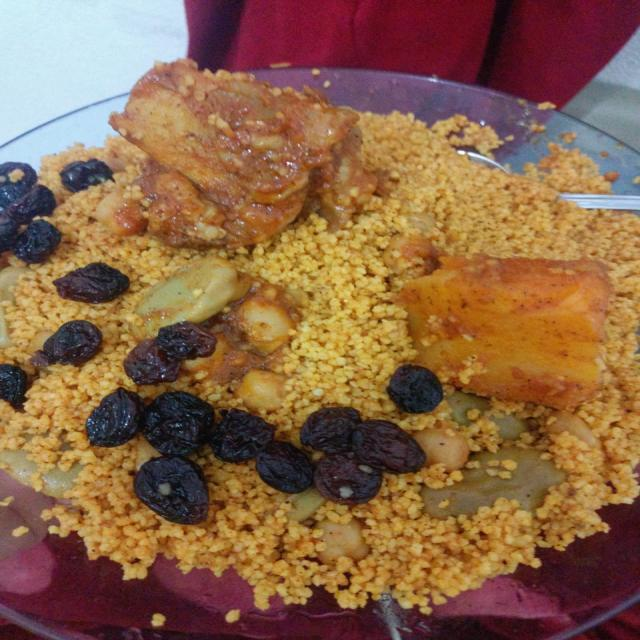Couscous: (27, 75, 625, 572)
